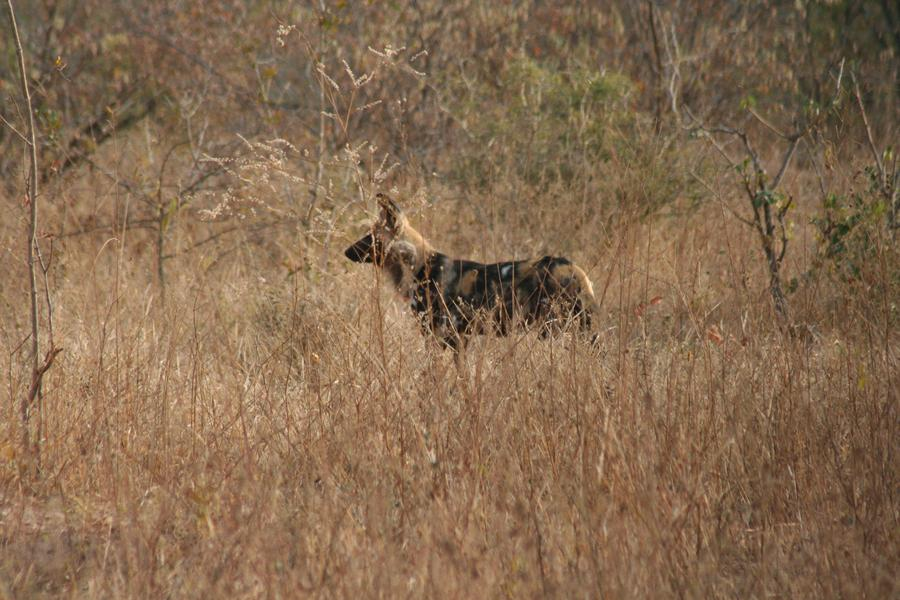wilddog: (365, 218, 623, 370)
